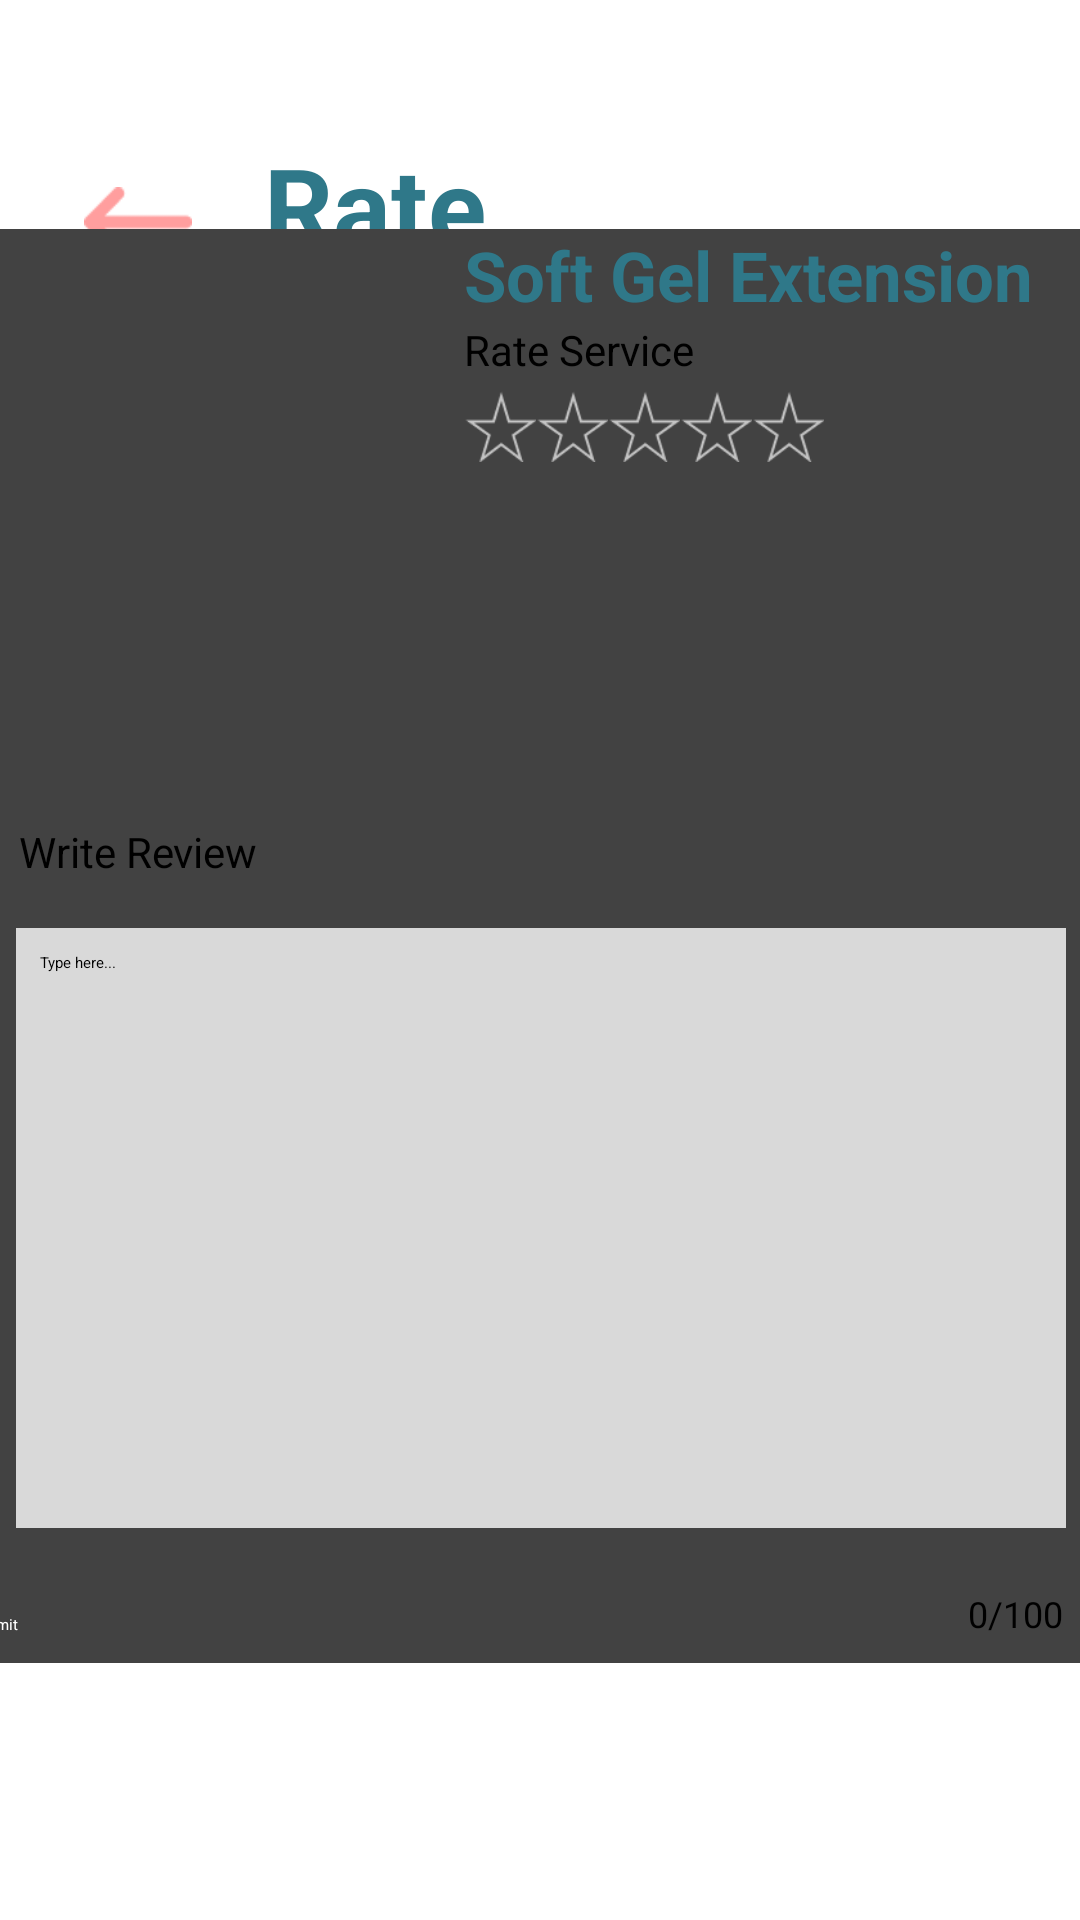

Screen size 1080 x 1920. Icon name, then its center in pixels as (x,y):
backarrow: (138,222)
star empty: (501,427), (573,427), (645,427), (717,427), (789,427)
